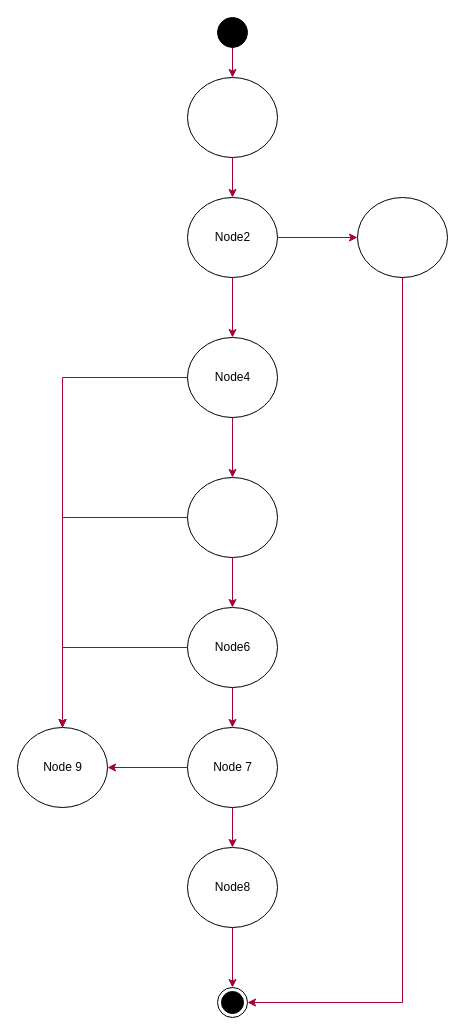
This 465x1035 diagram has some shape labels left out. The shapes that lost their labels are listed below. From the top down, each one's centre as x and y in pixels, then its label:
At point (232, 117): "Node1".
At point (402, 237): "Node3".
At point (232, 517): "Node5".
